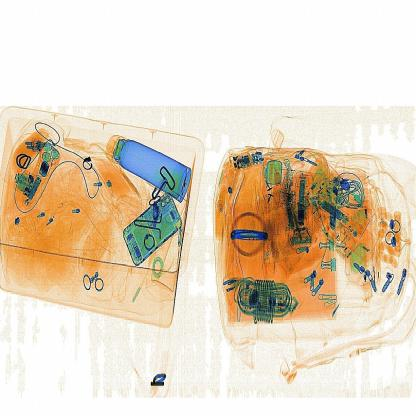knife: (224, 220, 275, 249)
